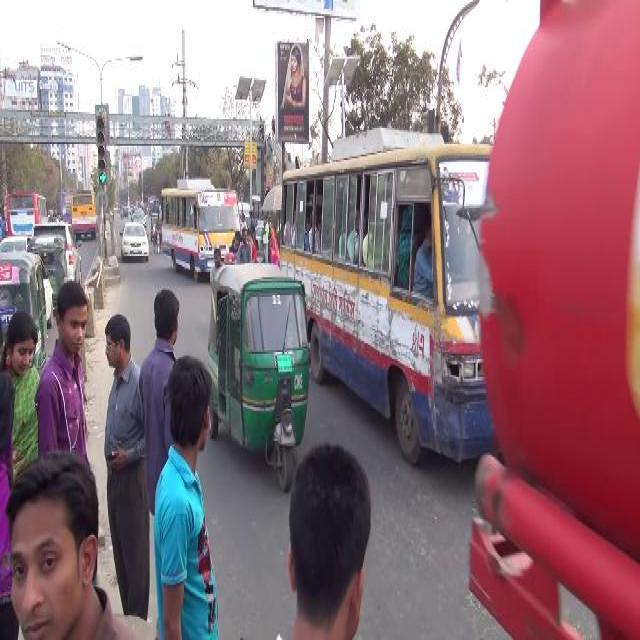bus: (312, 117, 486, 460), (157, 174, 240, 284), (2, 186, 50, 234), (70, 188, 98, 246)
car: (119, 219, 151, 265)
three wheelers -CNG-: (203, 260, 314, 498), (0, 251, 47, 368), (28, 235, 64, 298), (122, 206, 128, 217)
